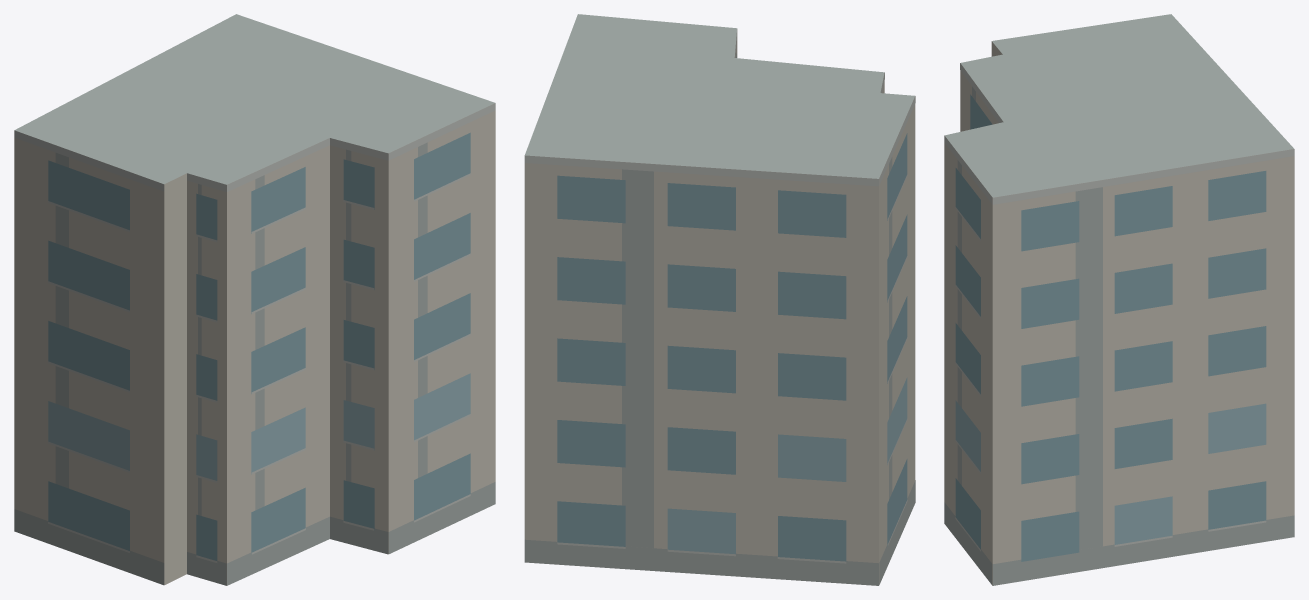
File: survey-upis-32866749.glb
The picture shows the model from 3 angles, left to right: view 1: azimuth 30°, elevation 25°; view 2: azimuth 150°, elevation 25°; view 3: azimuth 270°, elevation 25°; orthographic projection. The views are drawn at different scales.
Visible parts, largest first — view 1: survey-upis-32866749.tmp; view 2: survey-upis-32866749.tmp; view 3: survey-upis-32866749.tmp.
Boxes of the visible parts, x1,y1,x2,y2 form: survey-upis-32866749.tmp: (14,14,495,585); survey-upis-32866749.tmp: (524,14,915,585); survey-upis-32866749.tmp: (944,14,1294,585).
Bounding box in the file's own units: 13.41 × 13.2 × 10.8.
